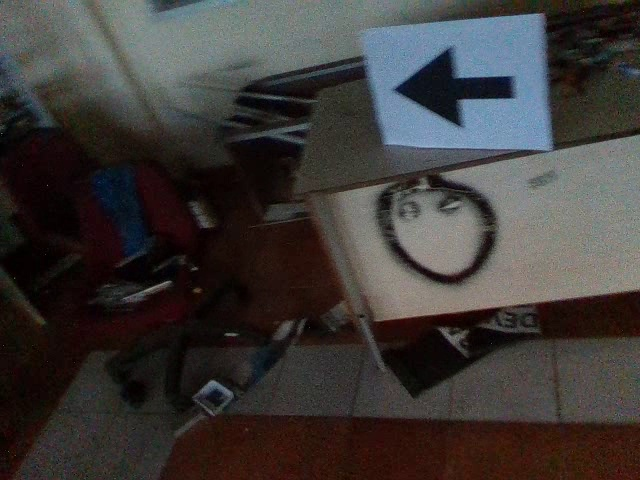Left: (386, 41, 520, 132)
